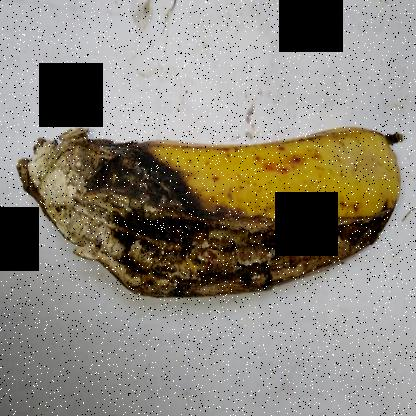rotten: (19, 120, 412, 338)
